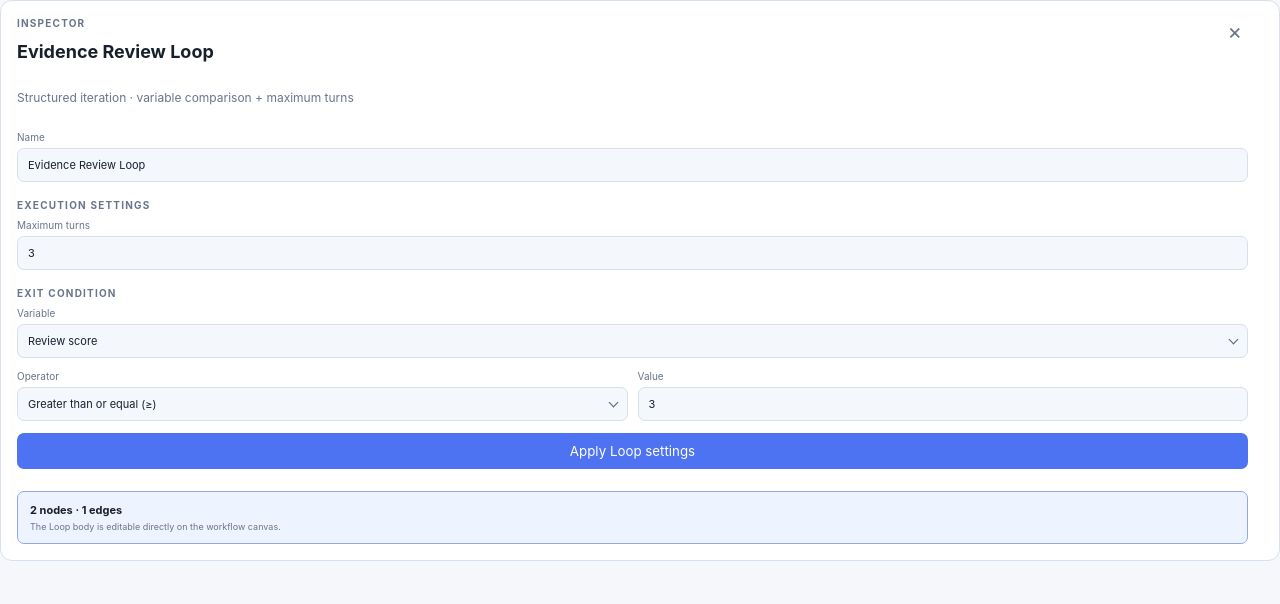
Test: WorkflowSidePanelHost Loop configuration › keeps an invalid draft local
Replace the text in the number field labelled "Maximum turns" with "0" at (632, 253), box [17,236,1248,270]
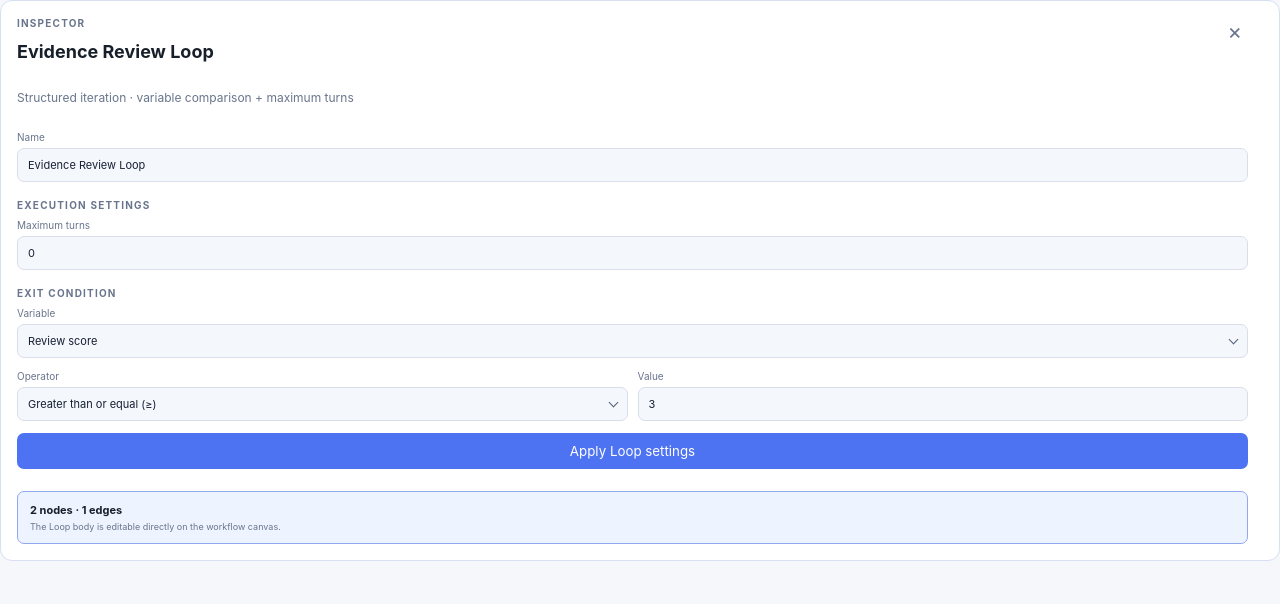
Submit the form
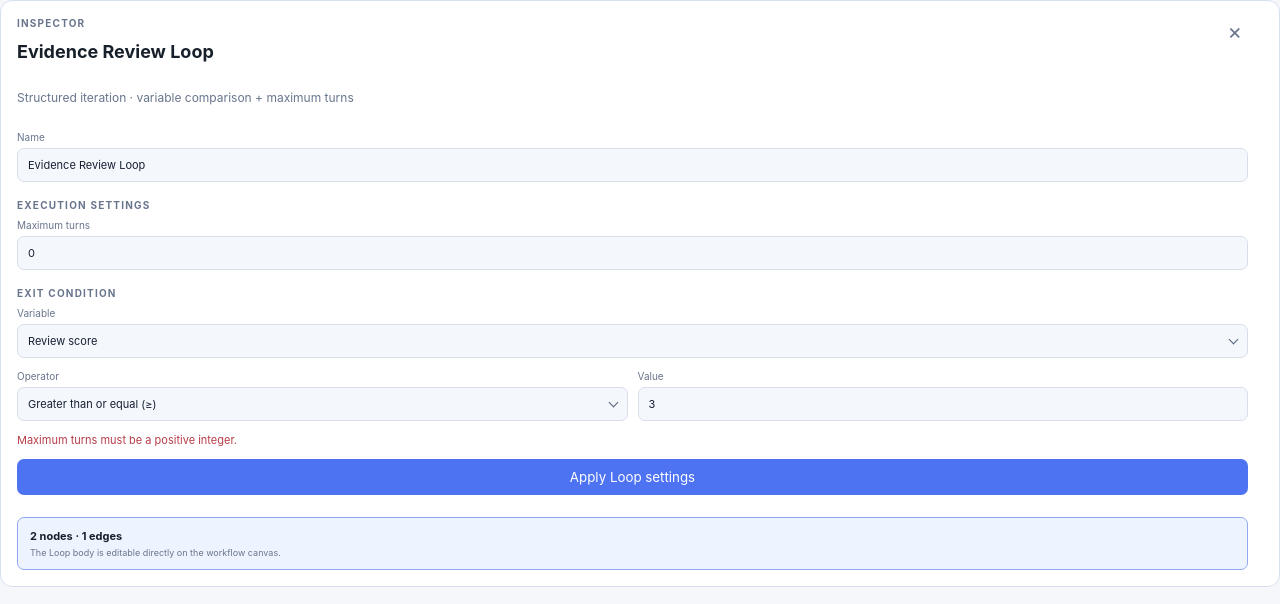
Now the text "positive integer" is shown, box [17,433,237,447]
